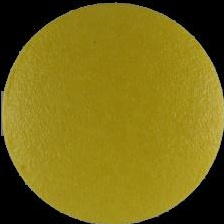10544-511: (0, 0, 224, 224)
